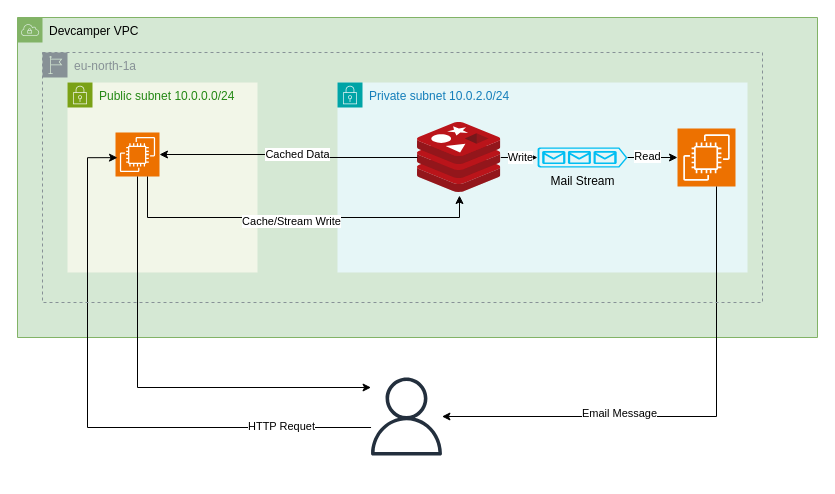
This 835x494 diagram has some shape labels left out. The centre of each missing label's shape, as x and y in pixels:
Mail Worker: point (706, 157)
User: point (406, 416)
web server: point (137, 154)
